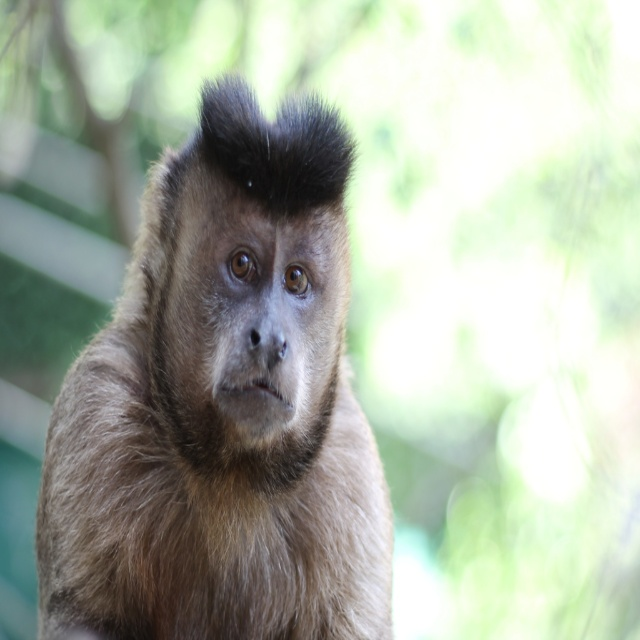Monkey: (36, 74, 395, 639)
